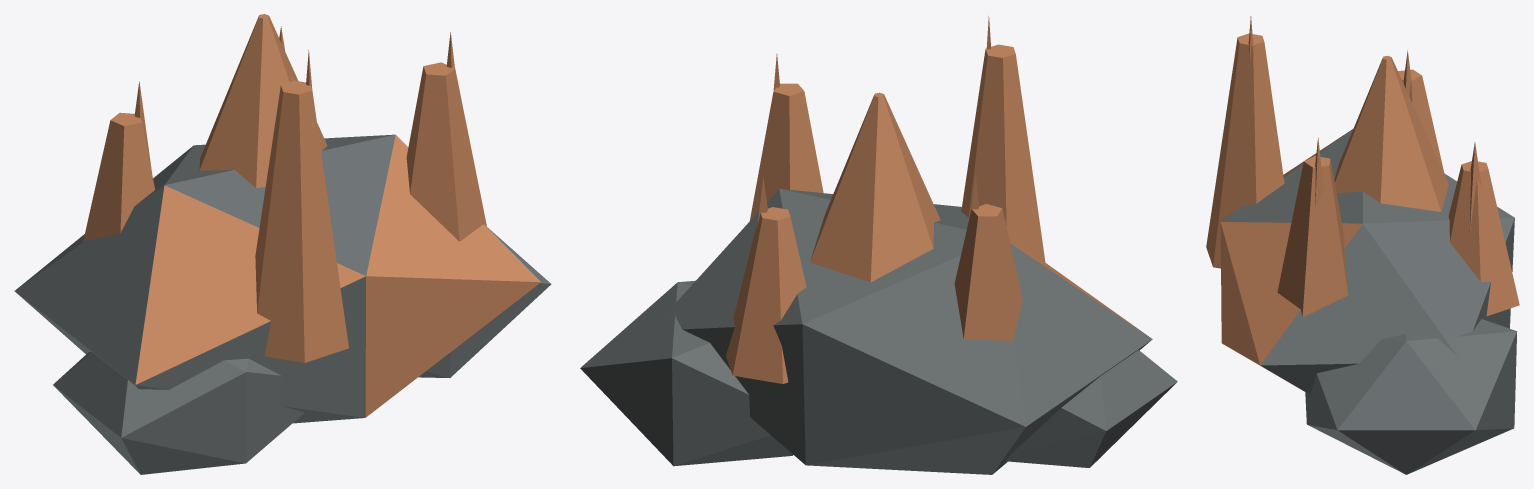
Rendered from ore_copper.obj.
3 renders of one model, left to right at view 1: azimuth 30°, elevation 25°; view 2: azimuth 150°, elevation 25°; view 3: azimuth 270°, elevation 25°, orthographic. The views are drawn at different scales.
Visible parts, largest first — view 1: ore_copper; view 2: ore_copper; view 3: ore_copper.
Part boxes in pixels (x1,y1,x2,y2): ore_copper: [14, 14, 551, 474]; ore_copper: [580, 16, 1177, 474]; ore_copper: [1206, 16, 1519, 474].
Size of the model in its own units: 1.99 by 1.66 by 1.3.
